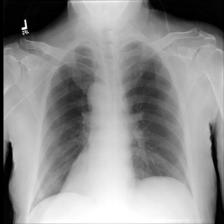normal: (28, 37, 197, 217)
